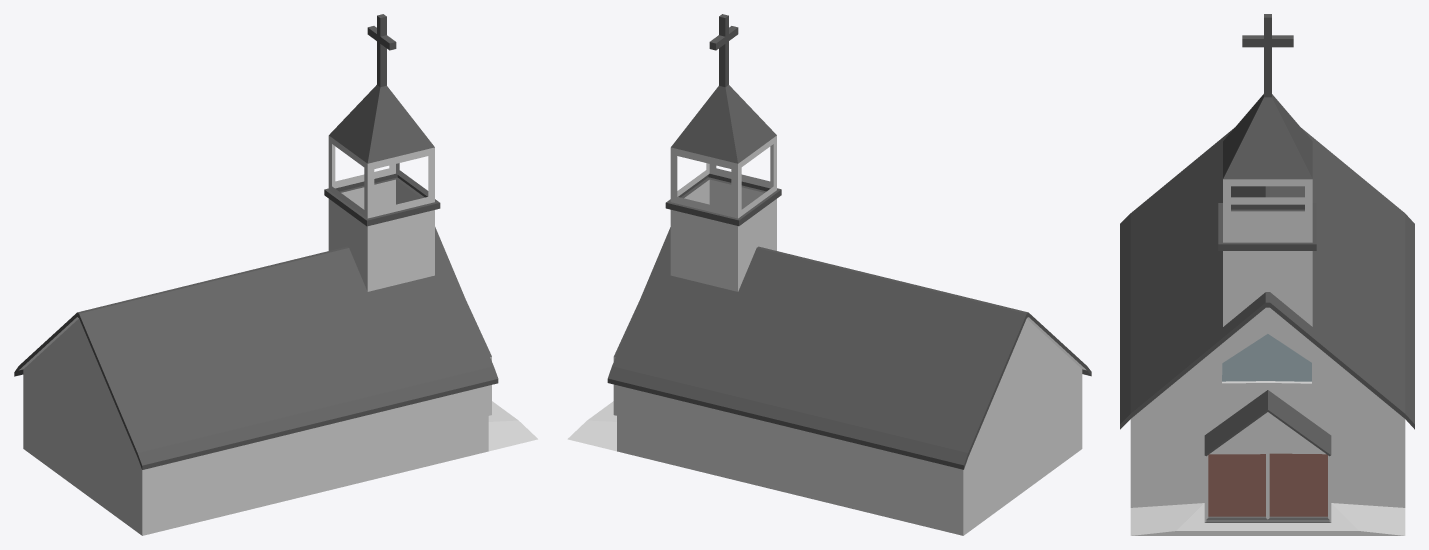
File: Westernkerk2.fbx
The picture shows the model from 3 angles, left to right: view 1: azimuth 30°, elevation 25°; view 2: azimuth 150°, elevation 25°; view 3: azimuth 270°, elevation 25°; orthographic projection. The views are drawn at different scales.
Visible parts, largest first — view 1: Cube, Cube.001; view 2: Cube, Cube.001; view 3: Cube, Cube.001.
Boxes of the visible parts, left/top/right/bottom form: Cube: left=14, top=227, right=537, bottom=535; Cube.001: left=324, top=14, right=440, bottom=291; Cube: left=567, top=227, right=1091, bottom=535; Cube.001: left=665, top=14, right=781, bottom=291; Cube: left=1120, top=127, right=1414, bottom=535; Cube.001: left=1218, top=14, right=1316, bottom=326.
Size of the model in its own units: 500 by 481 by 276.
2 materials, 2 textured.
